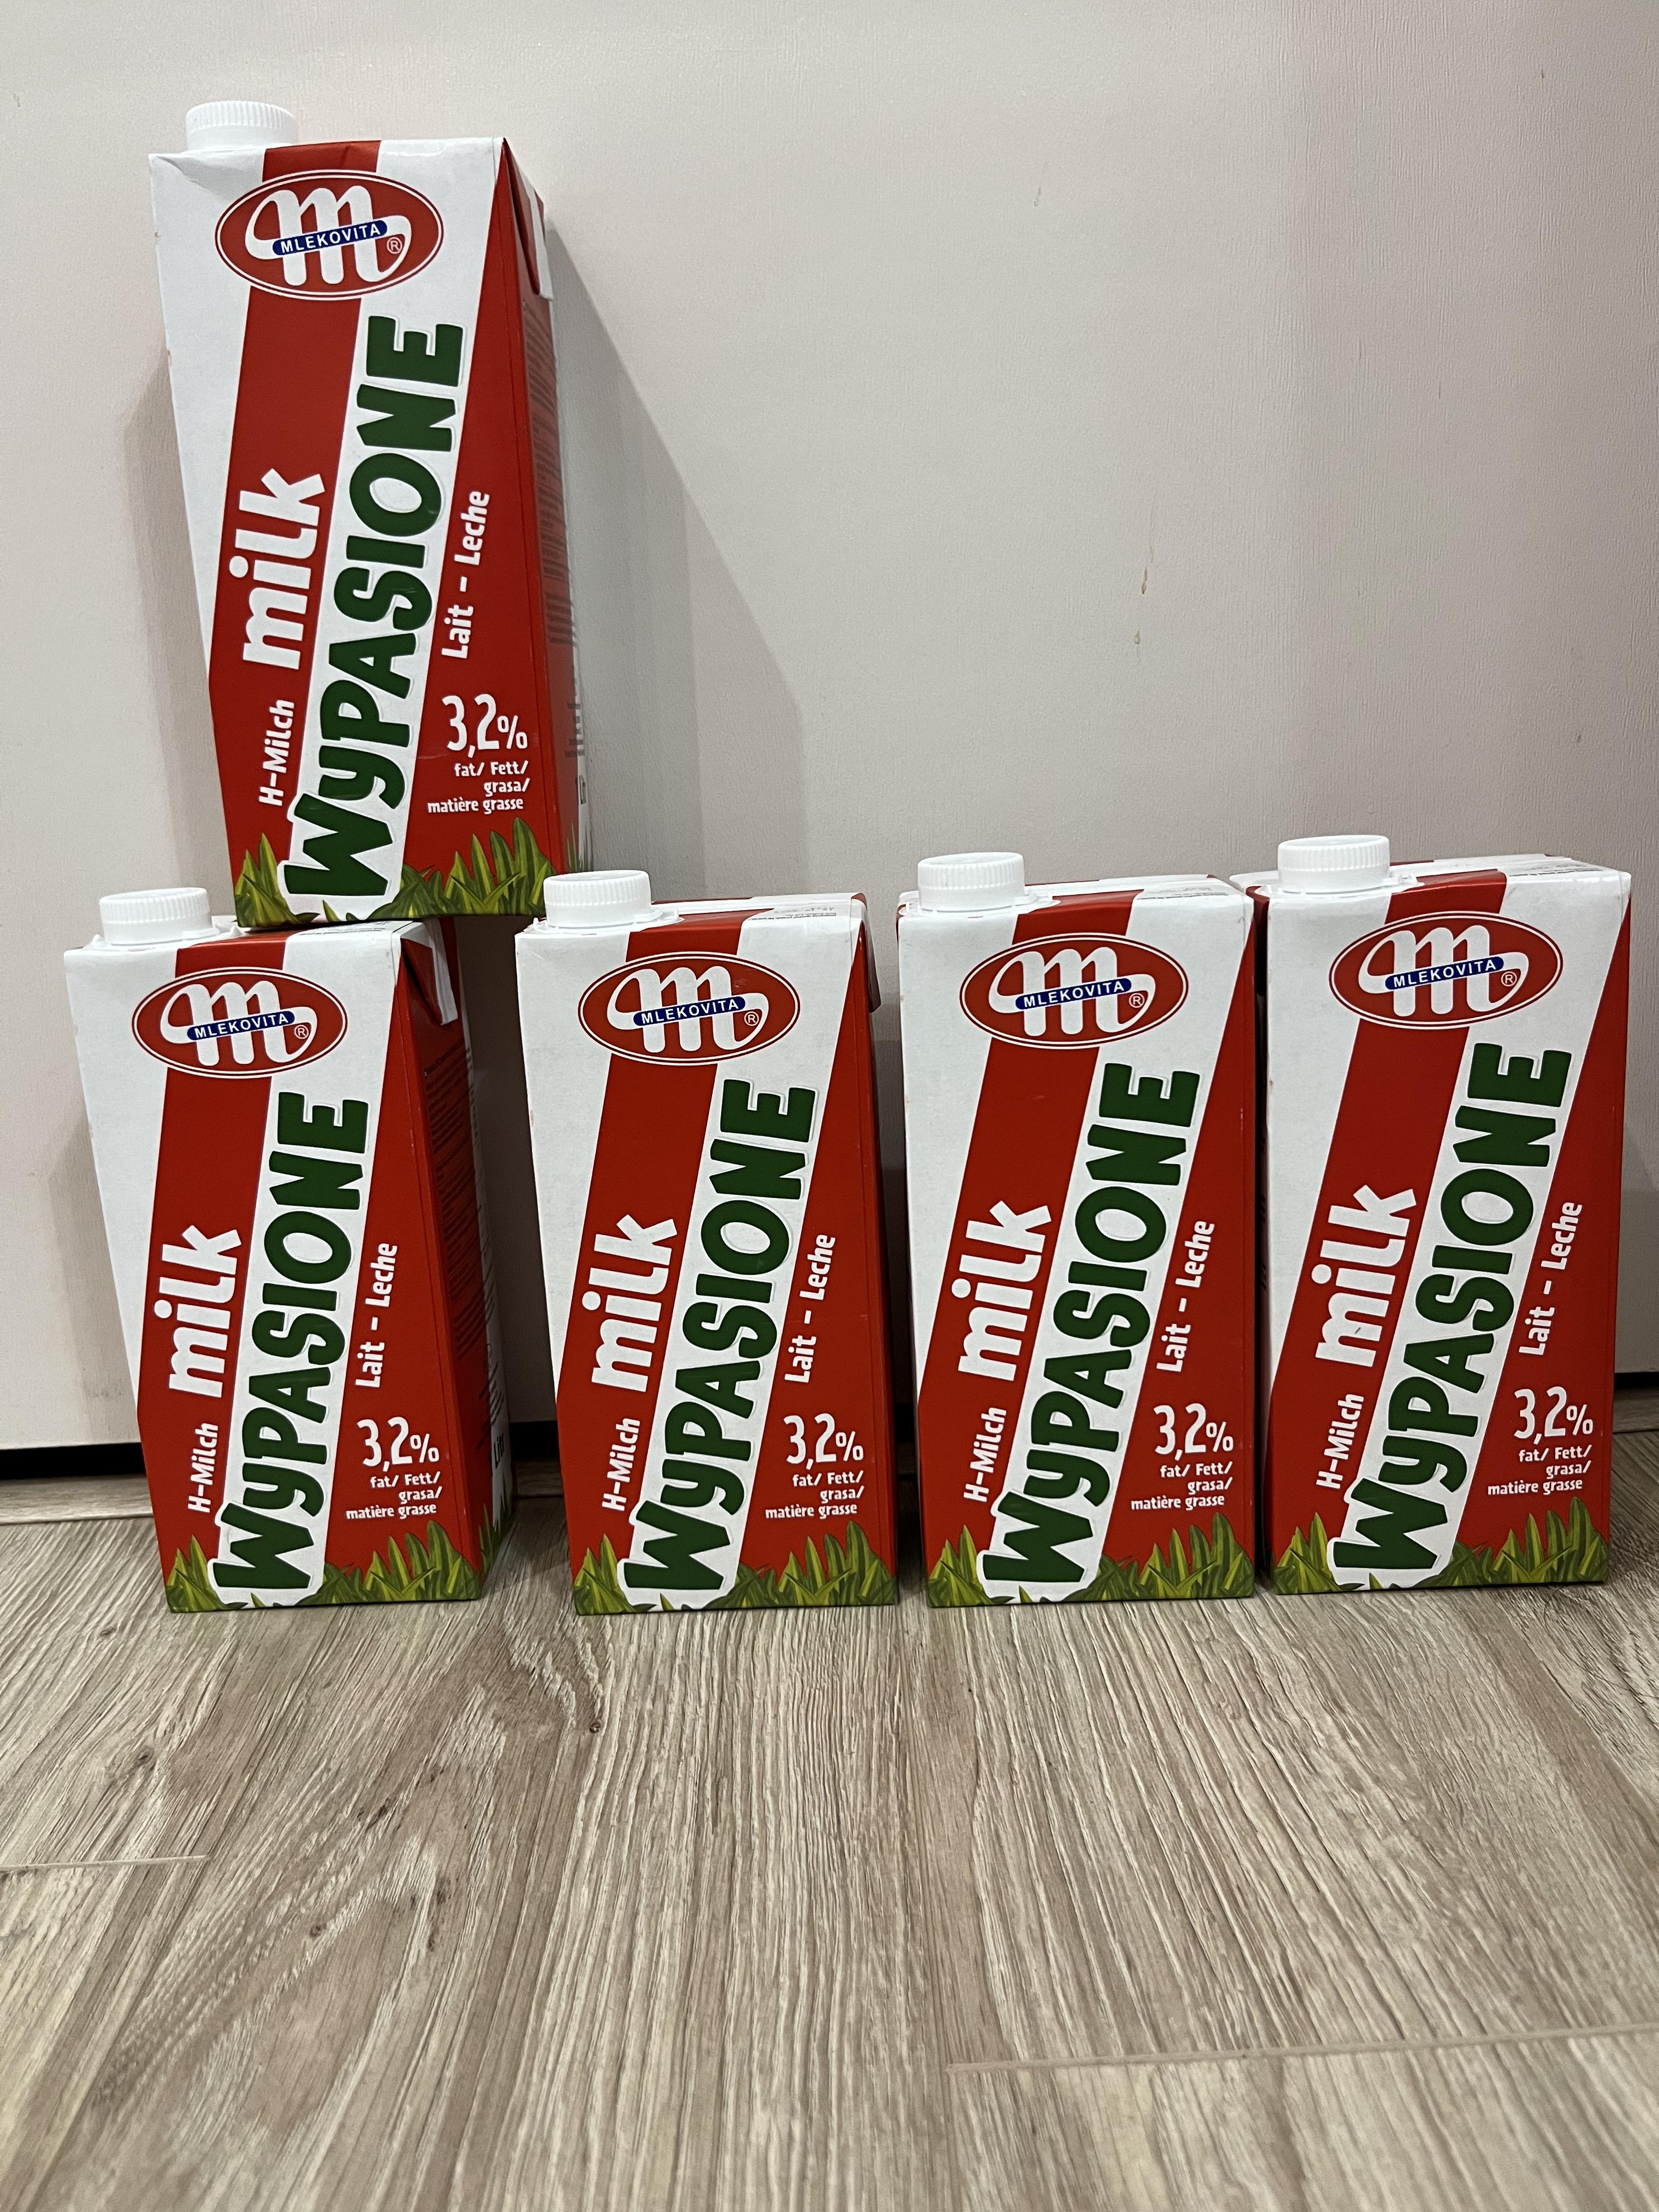Milk: (178, 145, 577, 911), (528, 892, 913, 1620), (78, 949, 500, 1611), (906, 860, 1274, 1595), (1269, 848, 1614, 1594)
